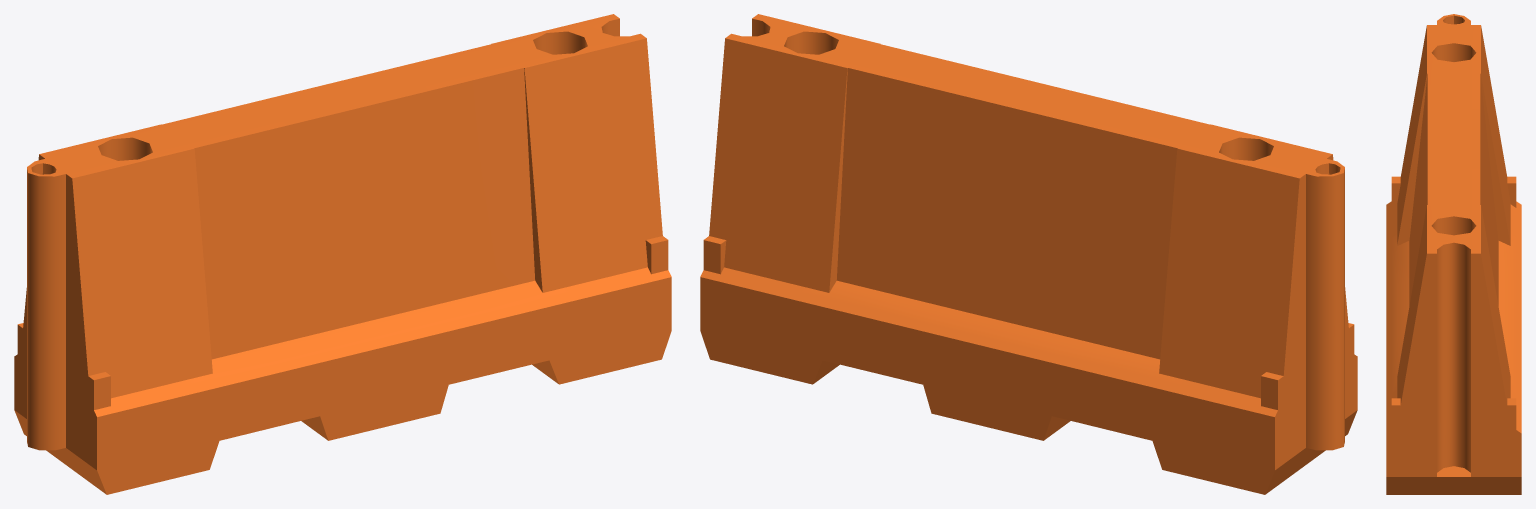
Rendered from Roadblock.FBX.
3 views of the same model, side by side, from view 1: azimuth 30°, elevation 25°; view 2: azimuth 150°, elevation 25°; view 3: azimuth 270°, elevation 25° (orthographic). The views are drawn at different scales.
Parts seen in each view (by area): view 1: Box001; view 2: Box001; view 3: Box001.
Boxes of the visible parts, box(x1,y1,x2,y2) form: Box001: box(14, 14, 671, 494); Box001: box(700, 14, 1357, 494); Box001: box(1386, 14, 1521, 494).
Size of the model in its own units: 165 by 78.76 by 39.37.
1 material, 1 textured.
